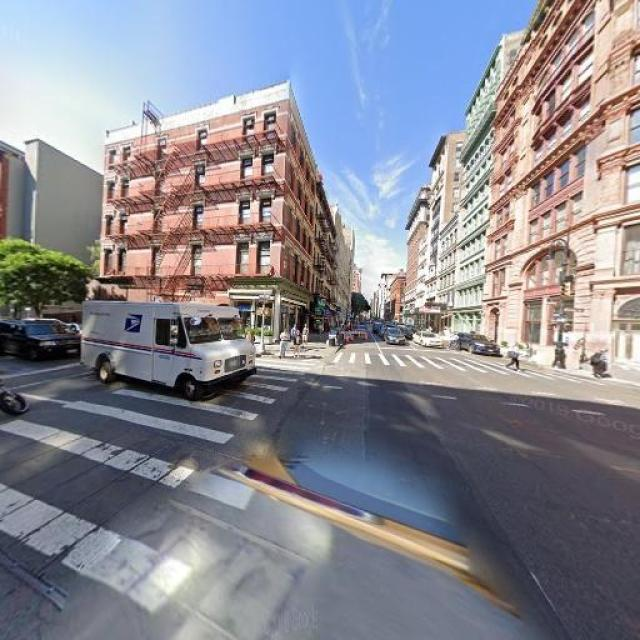Building: (497, 1, 640, 367), (104, 77, 284, 337), (467, 74, 492, 343), (312, 162, 330, 330), (442, 213, 463, 337), (430, 162, 439, 332)
